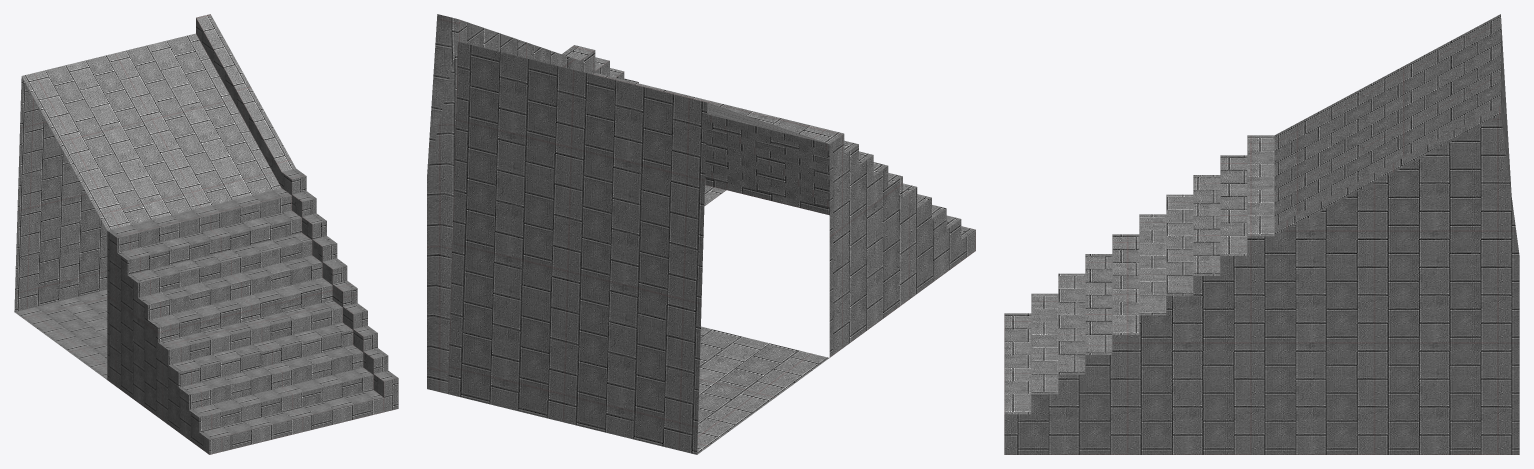
The model's file is Stairs.obj.
3 renders of one model, left to right at view 1: azimuth 30°, elevation 25°; view 2: azimuth 150°, elevation 25°; view 3: azimuth 270°, elevation 25°, orthographic. The views are drawn at different scales.
Parts seen in each view (by area): view 1: Stairs; view 2: Stairs; view 3: Stairs.
Boxes of the visible parts, x1,y1,x2,y2 form: Stairs: (14, 14, 398, 454); Stairs: (427, 14, 975, 454); Stairs: (1004, 14, 1519, 454).
Size of the model in its own units: 2.34 by 3.04 by 4.18.
